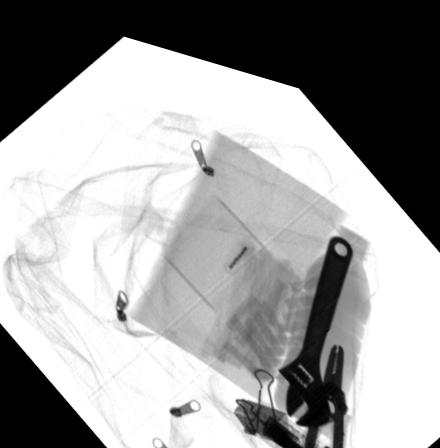Pliers: (296, 323, 348, 448)
Wrench: (276, 213, 354, 408)
